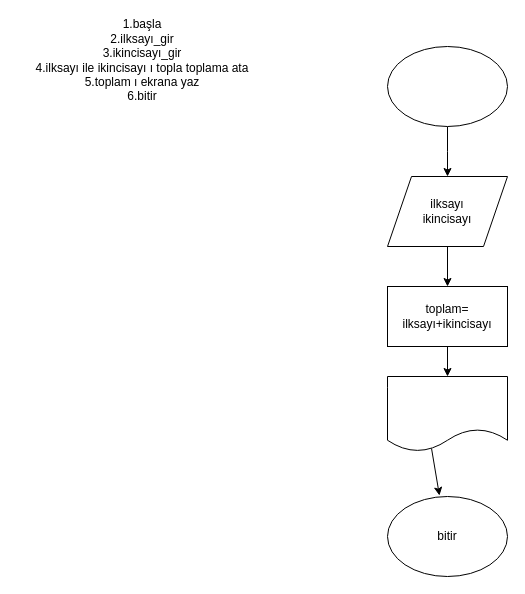
Some shapes in this 525 by 594 pixel diagram are drawn without their labels. Each missing label, with the centre of its shape:
başla: (x=447, y=86)
toplam: (x=447, y=414)
